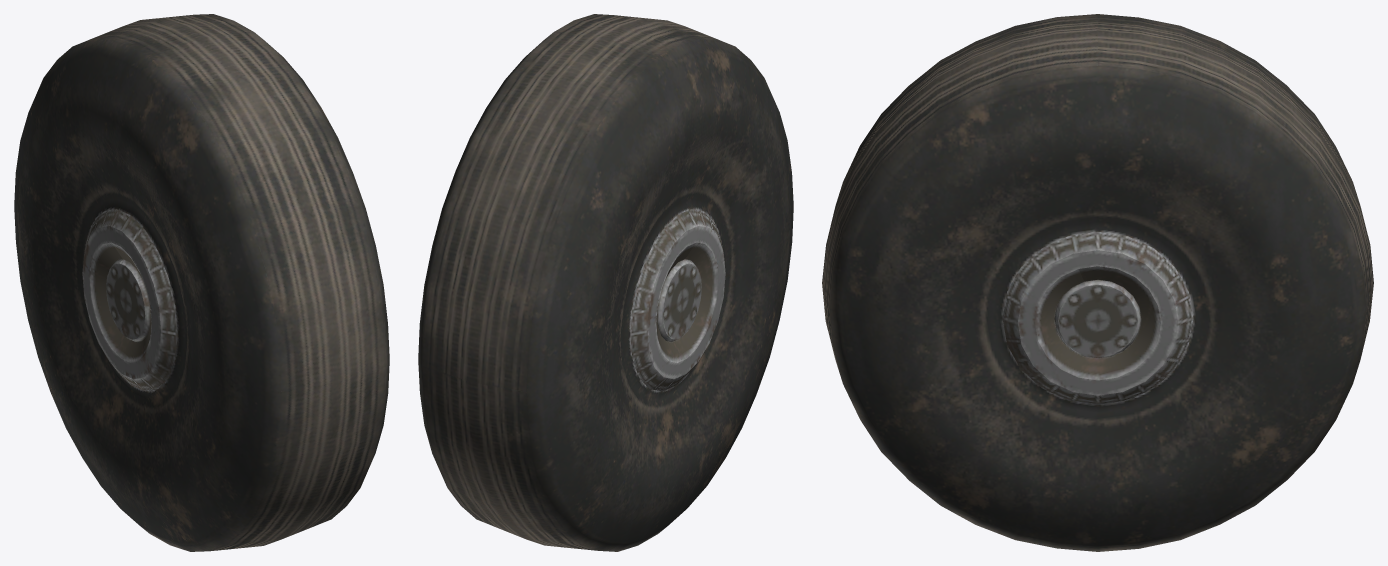
Rendered from plane_wreckage_wheel.dae.
3 views of the same model, side by side, from view 1: azimuth 30°, elevation 25°; view 2: azimuth 150°, elevation 25°; view 3: azimuth 270°, elevation 25° (orthographic). The views are drawn at different scales.
Visible parts, largest first — view 1: plane_wreckage_wheel; view 2: plane_wreckage_wheel; view 3: plane_wreckage_wheel.
Boxes of the visible parts, box(x1,y1,x2,y2) form: plane_wreckage_wheel: box(14, 14, 389, 551); plane_wreckage_wheel: box(418, 14, 793, 551); plane_wreckage_wheel: box(822, 14, 1373, 551).
Size of the model in its own units: 52.25 by 151 by 151.
